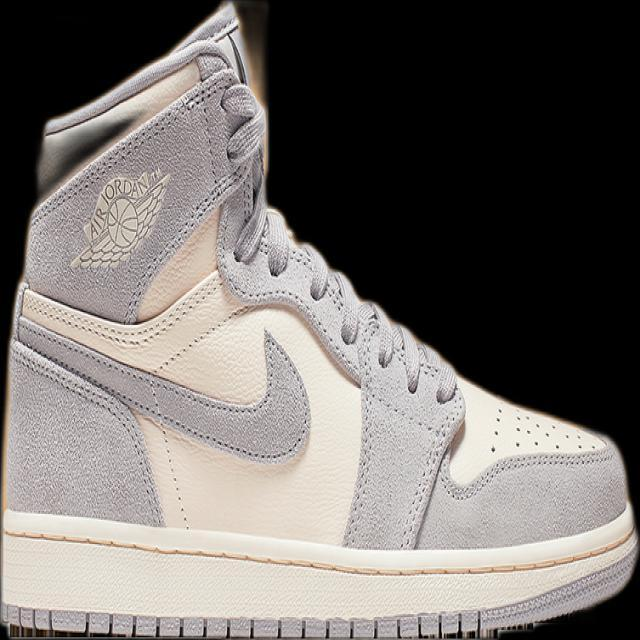J1_InsoleChar: (0, 1, 638, 639)
J1_ShoeLogo: (69, 166, 172, 271)
J1_StitchPattern: (15, 210, 468, 546), (1, 508, 637, 637), (14, 282, 312, 465), (228, 206, 458, 405), (2, 521, 637, 580), (1, 605, 542, 639), (17, 272, 223, 354), (485, 402, 605, 457)
